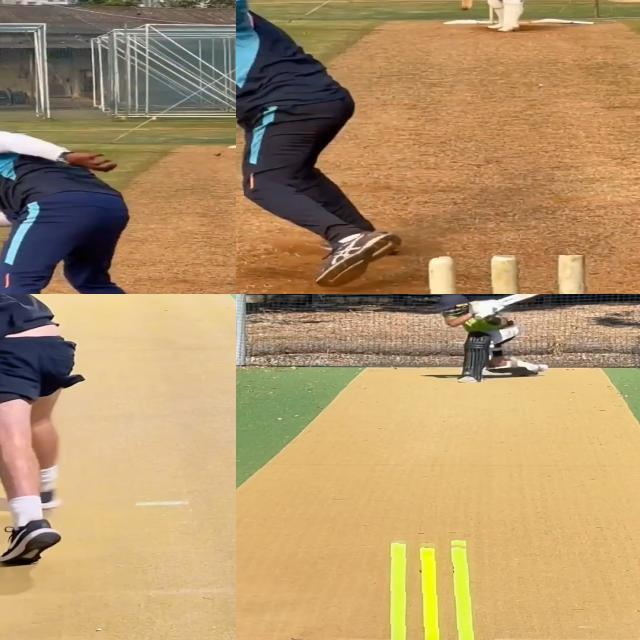Cricket ball: (212, 151, 222, 157), (461, 6, 470, 11)
Stumps: (368, 537, 493, 640), (425, 255, 588, 294)
